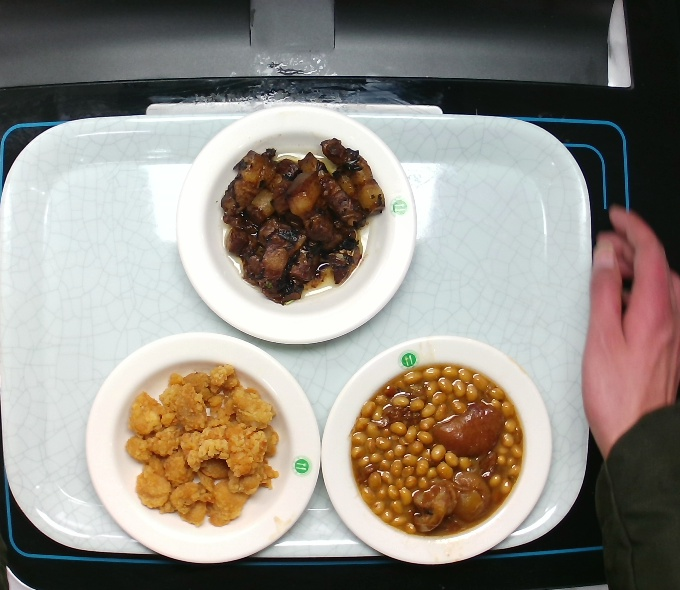wcq-GanCaiRou: (216, 137, 387, 304)
wcq-HuangDouZhuJiao: (349, 362, 524, 538)
wcq-JiMiHua: (121, 361, 284, 527)
